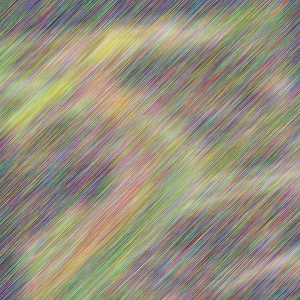Leaf_Blast: (113, 101, 197, 250)
